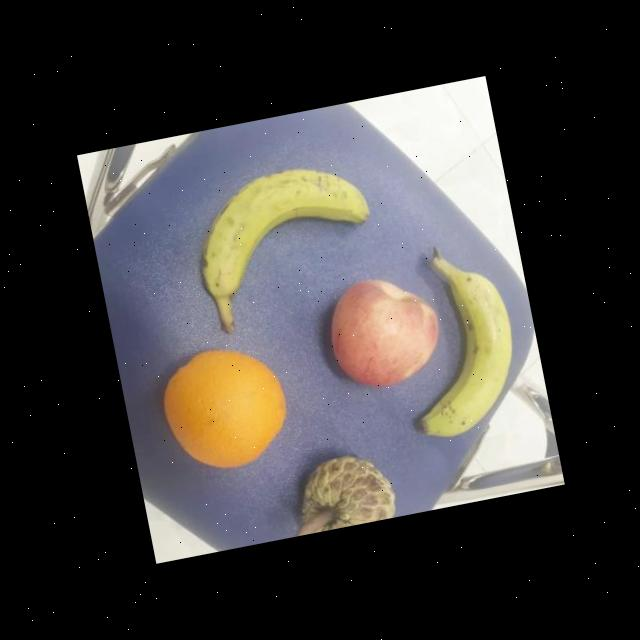Sakya fruit: (277, 442, 400, 538)
apple: (314, 264, 452, 400)
banana: (181, 152, 387, 339), (380, 243, 531, 449)
orange: (146, 333, 302, 482)
